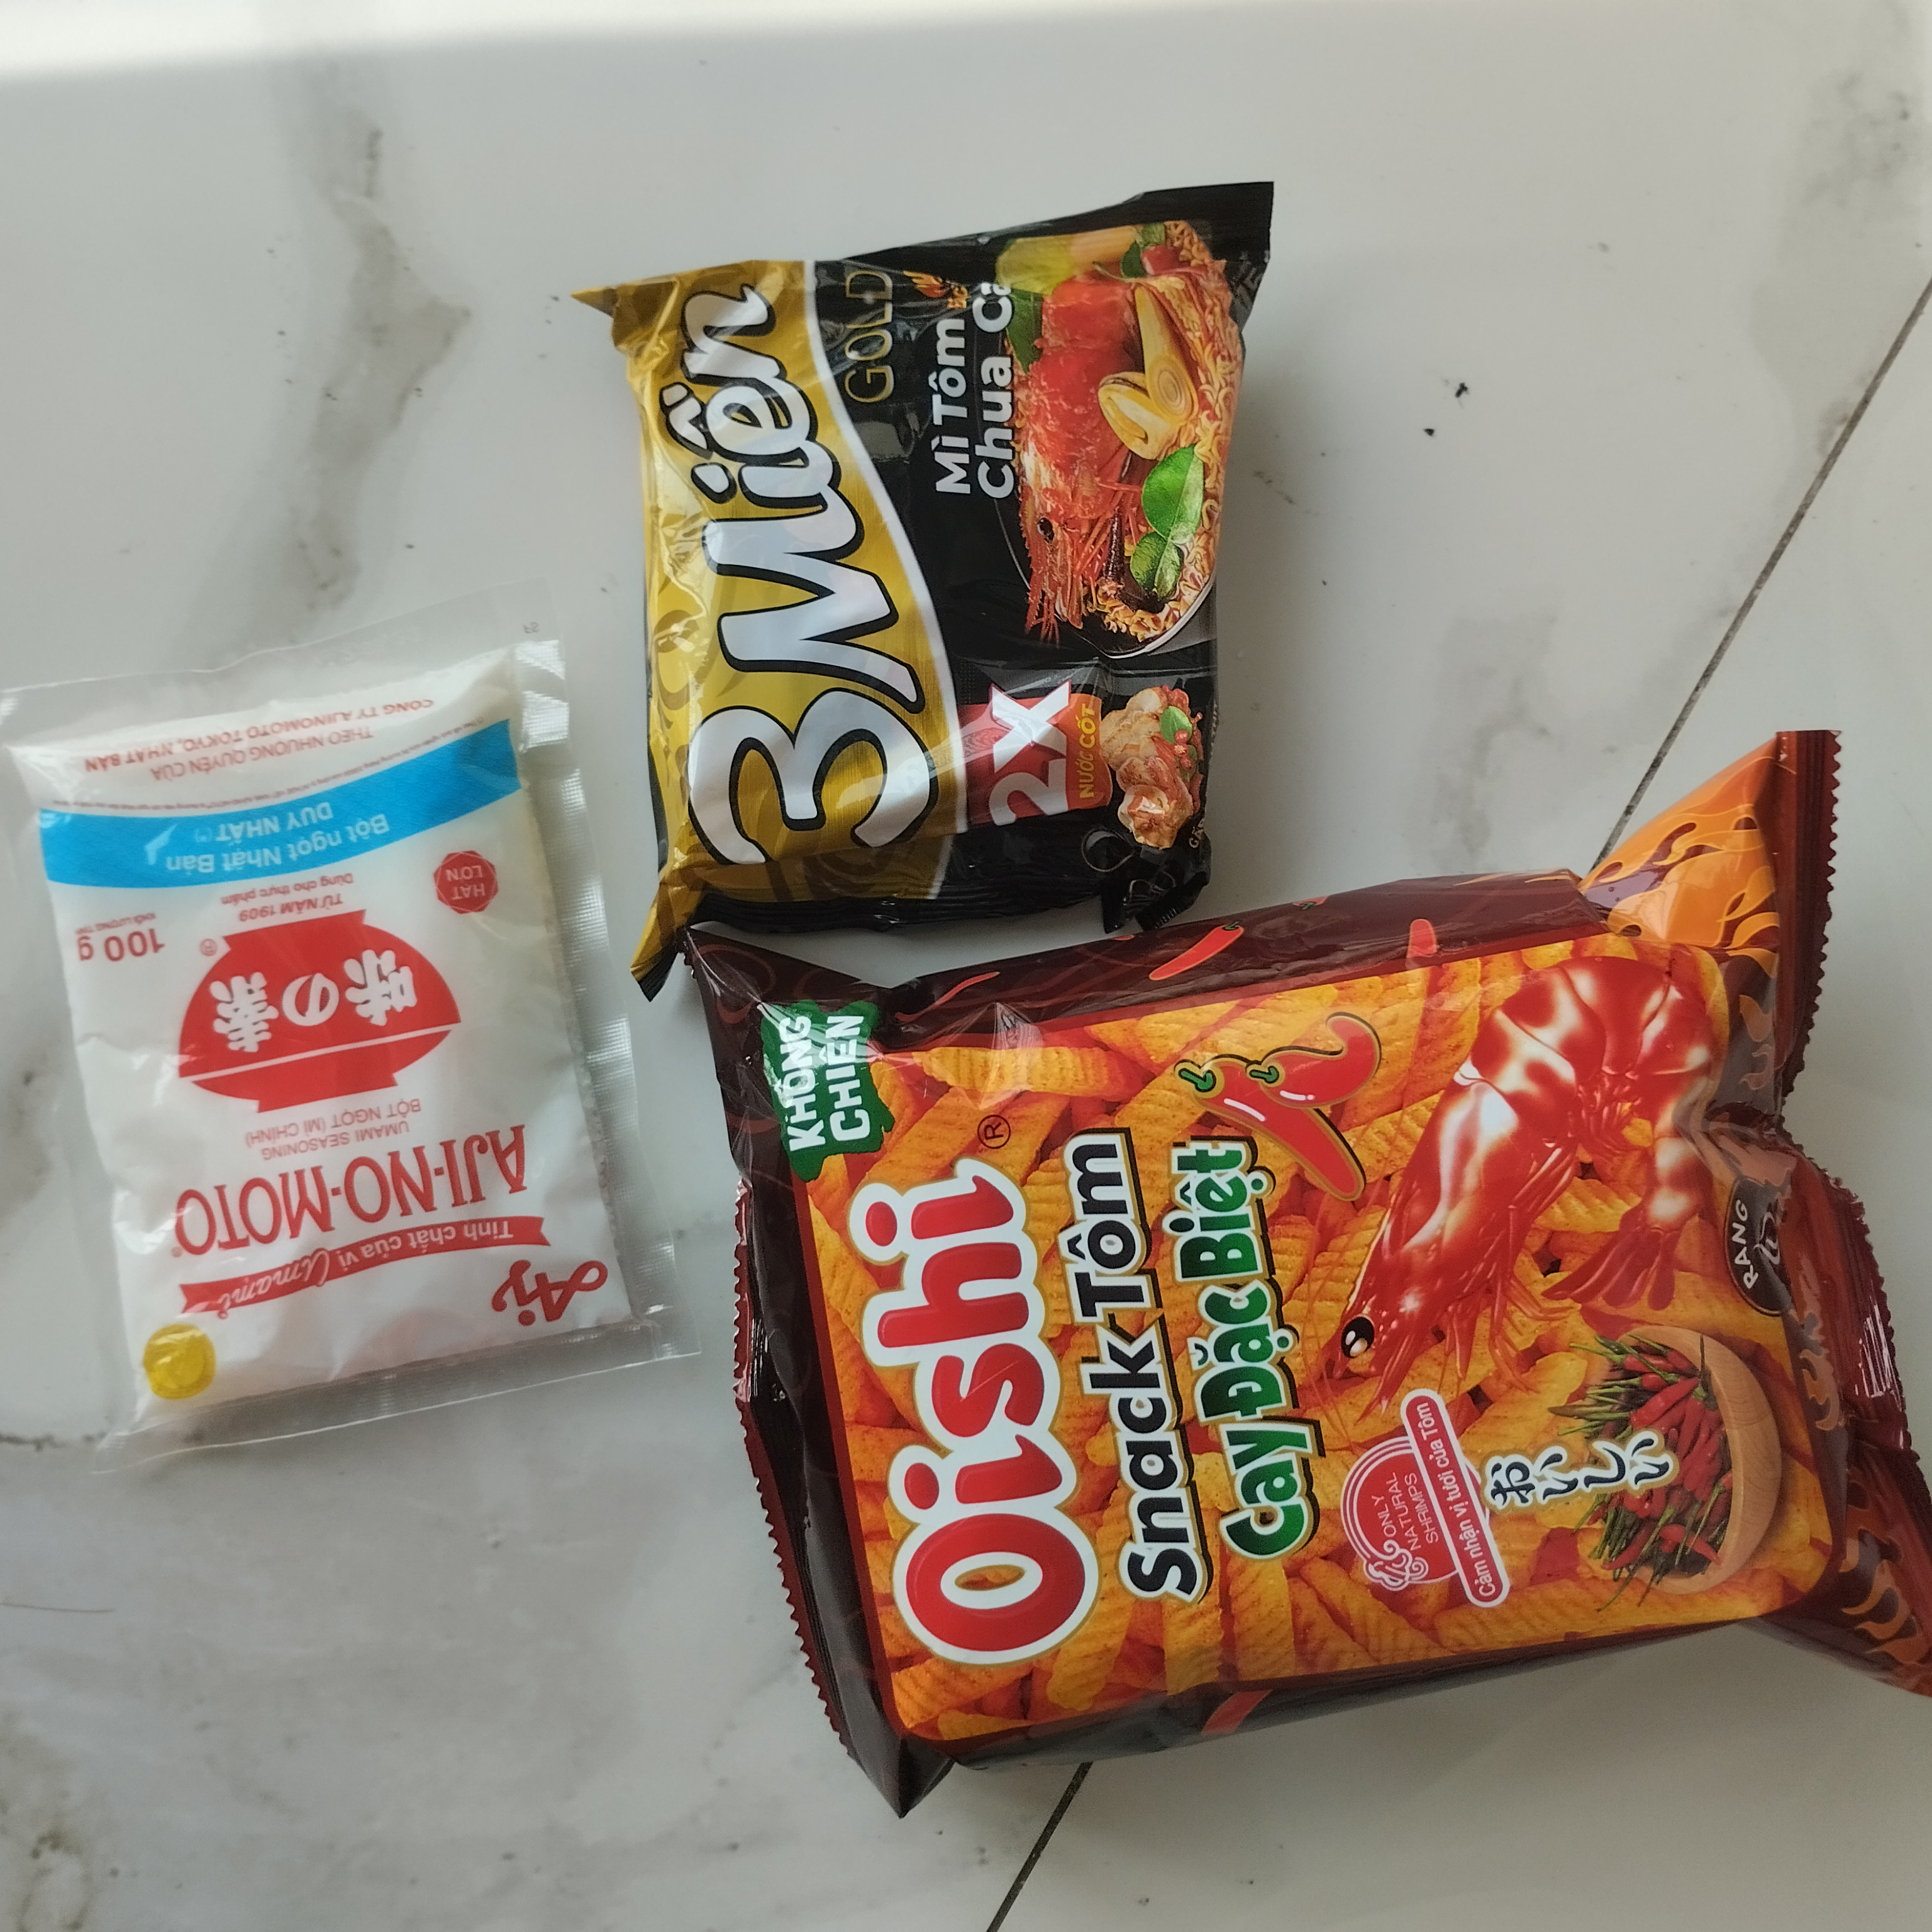3mien: (570, 170, 1299, 1017)
Ajinomoto: (0, 598, 676, 1490)
Oishi_Cay: (663, 729, 1927, 1826)
